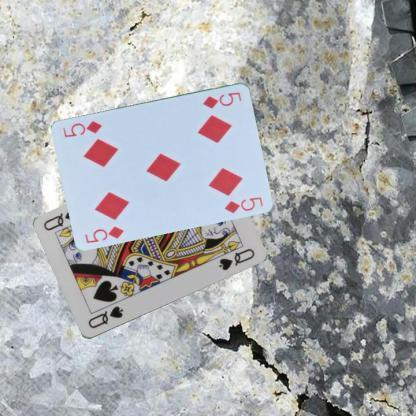5d: (200, 89, 244, 110), (82, 223, 126, 244)
Qs: (85, 303, 124, 330)
